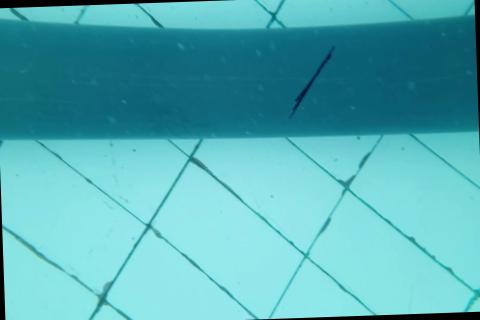keretakan: (288, 44, 338, 121)
